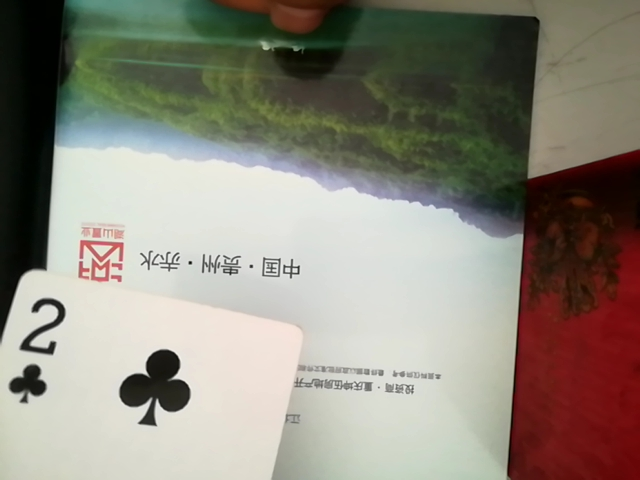mh 2: (9, 262, 319, 480)
